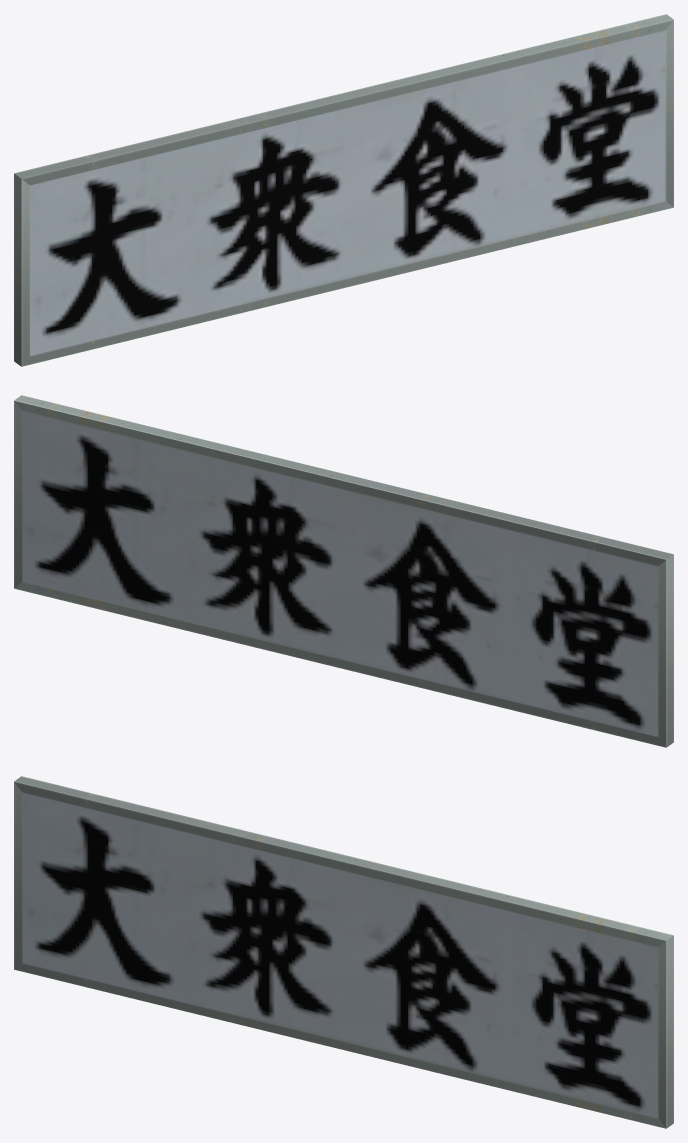
The model's file is shopboard06d.fbx.
3 renders of one model, top to bottom at view 1: azimuth 30°, elevation 25°; view 2: azimuth 150°, elevation 25°; view 3: azimuth 330°, elevation 25°, orthographic.
Parts seen in each view (by area): view 1: shopboard06d; view 2: shopboard06d; view 3: shopboard06d.
Part boxes in pixels (<box>): shopboard06d: <box>14,14,673,366</box>; shopboard06d: <box>14,395,673,747</box>; shopboard06d: <box>14,776,673,1128</box>.
Bounding box in the file's own units: 126 × 34.57 × 2.51.
